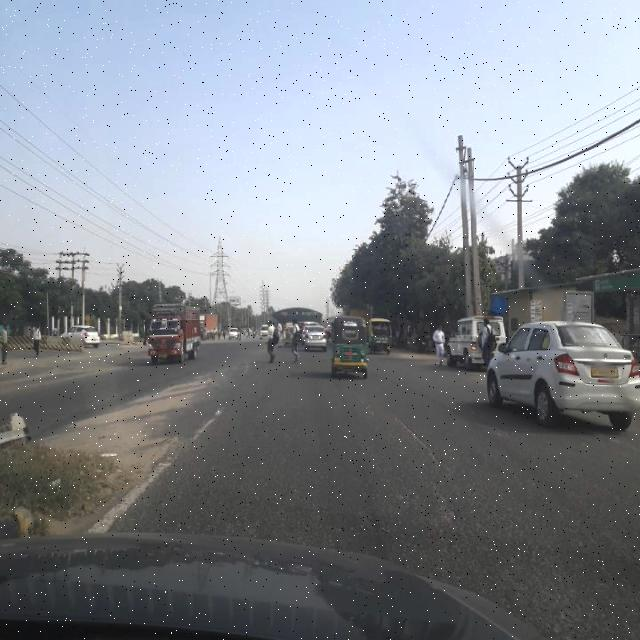D00: (393, 409, 449, 467)
D44: (148, 394, 233, 492)
